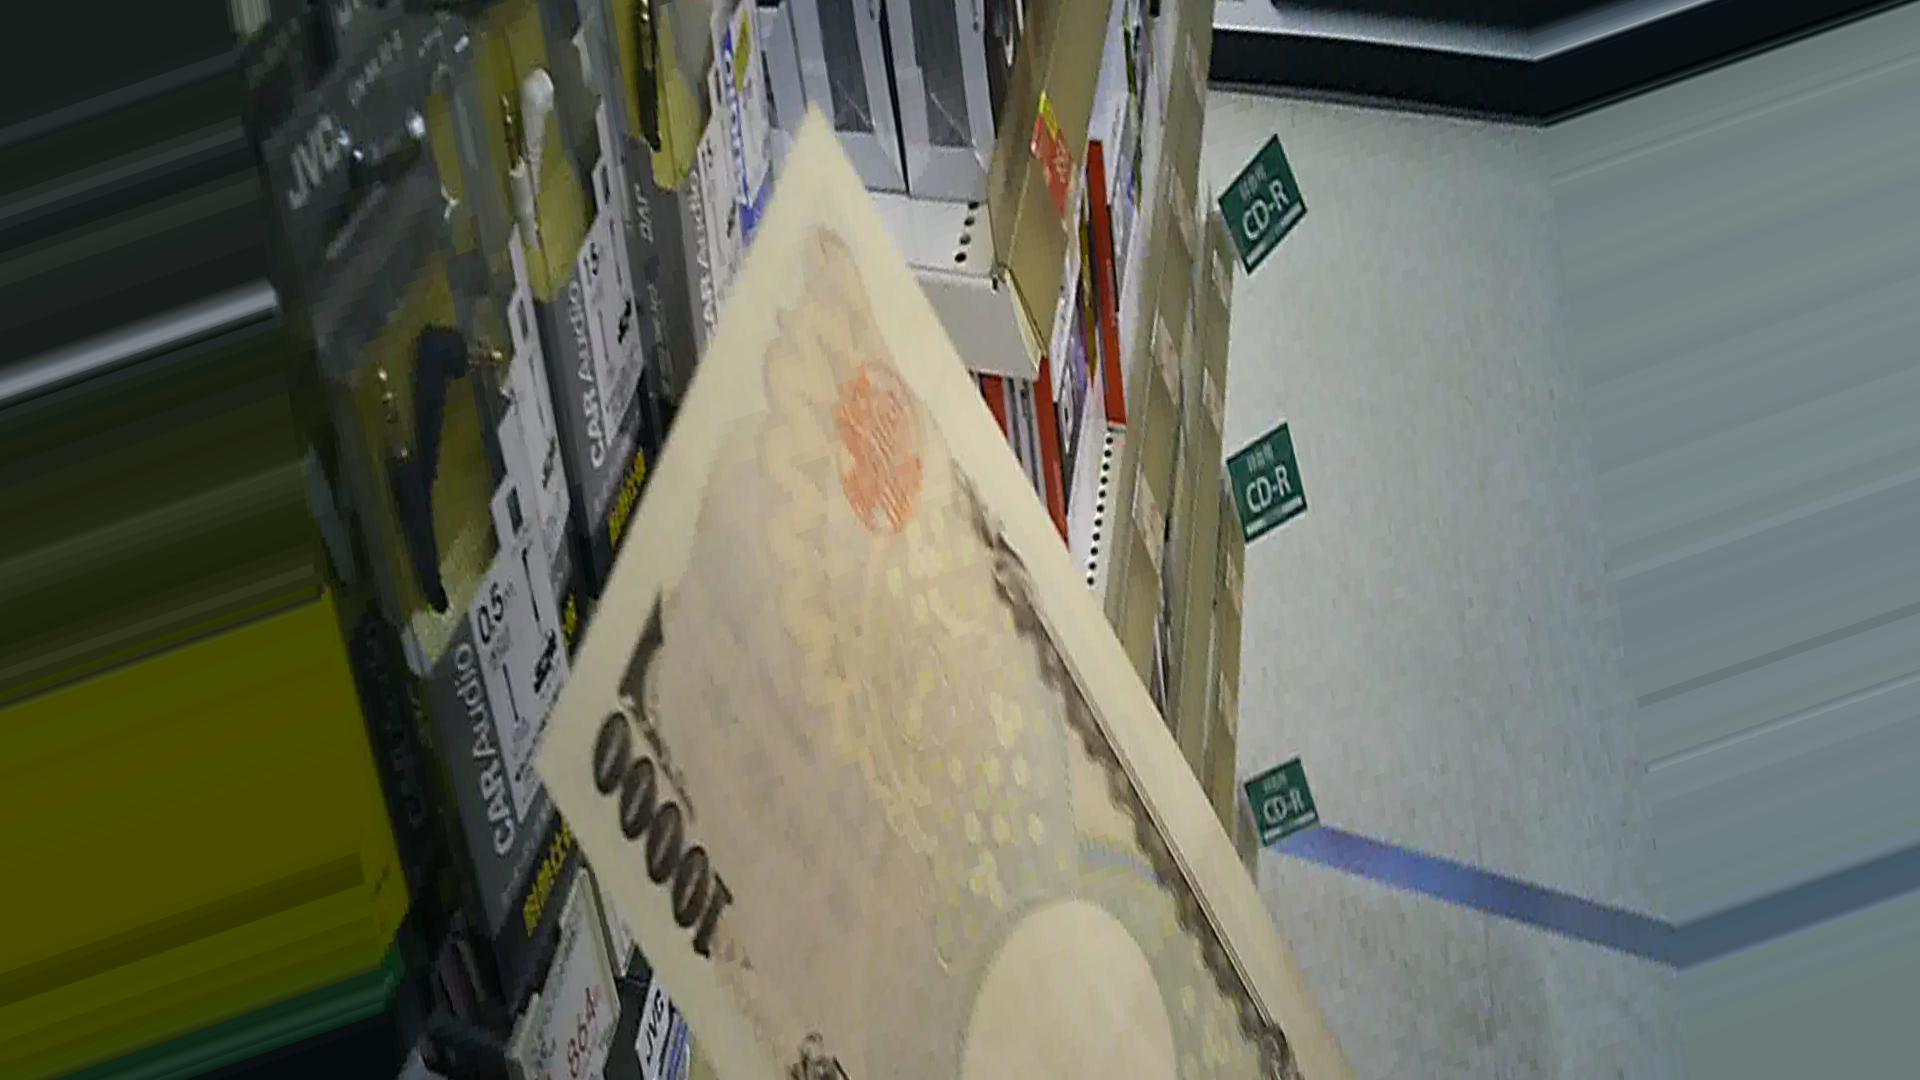10,000 Yen: (513, 105, 1226, 1079)
